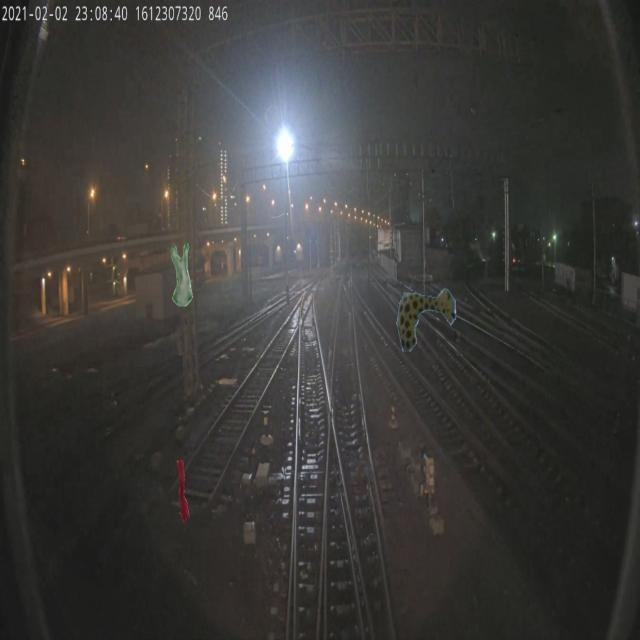floating object: (396, 288, 456, 352), (176, 458, 190, 522)
plastic bag: (170, 242, 193, 306)
